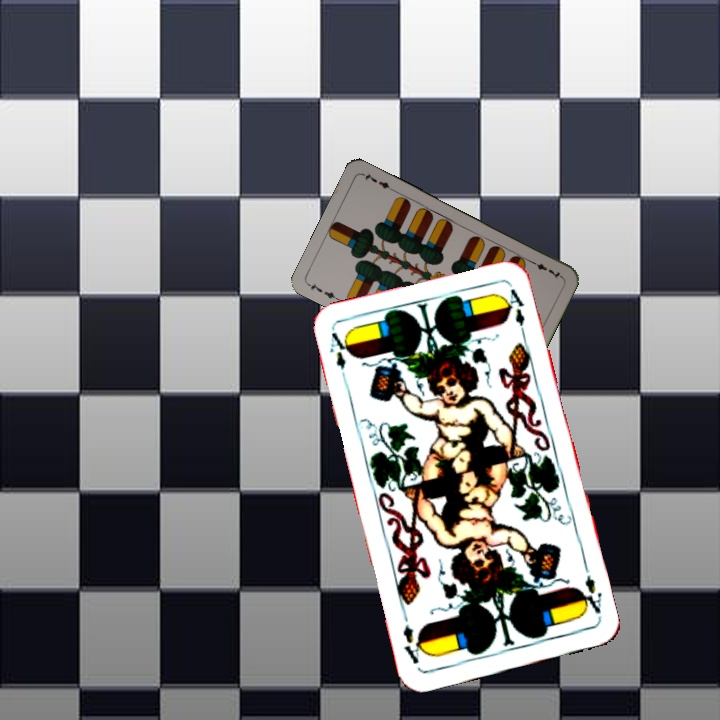E7: (526, 256, 564, 281), (304, 279, 342, 303)
EA: (325, 328, 354, 386), (574, 571, 604, 616)
